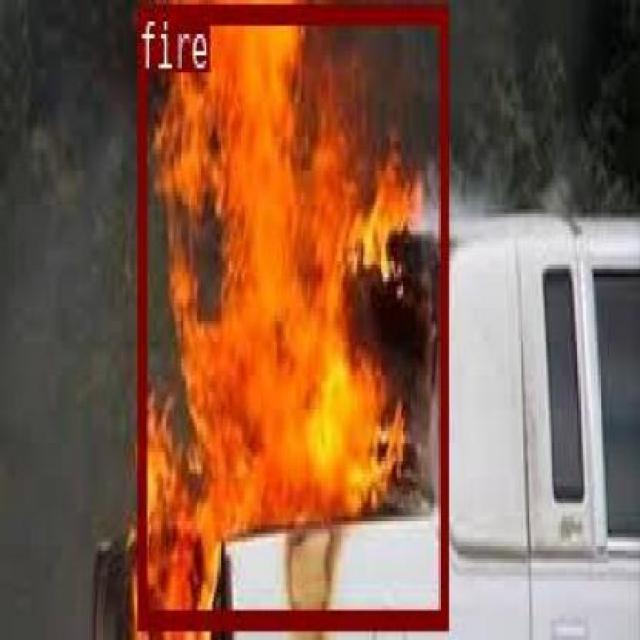Fire: (291, 313, 309, 626)
